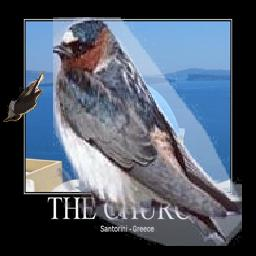Cuckoo: (4, 68, 45, 123)
Swallow: (54, 18, 243, 247)
